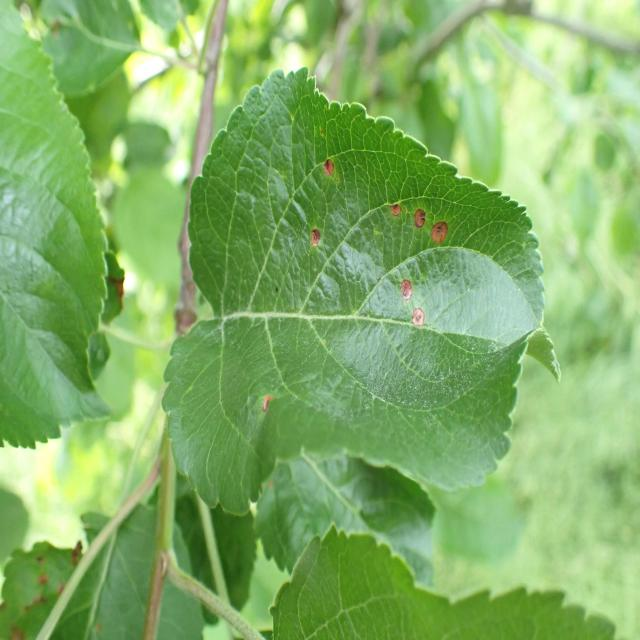Black Rot: (293, 213, 338, 263), (400, 294, 434, 356), (306, 132, 344, 186), (382, 185, 411, 239), (377, 276, 422, 306), (427, 212, 453, 262), (412, 198, 430, 252), (254, 386, 279, 420)
